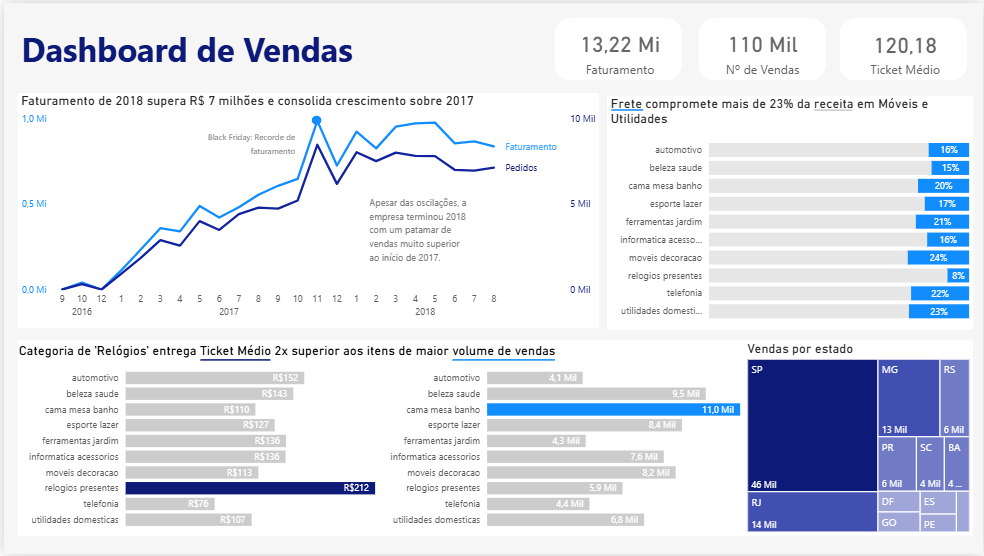

Layout of this report page (visuals, bound fields, positions):
{"tool":"powerbi","page":{"name":"Página 1","canvas":[1280,720],"ordinal":0},"visuals":[{"type":"group","id":"g1","title":"Grupo 1","box":[16.7,118.3,760,308.3],"z":0},{"type":"lineChart","title":"Faturamento de 2018 supera R$ 7 milhões e consolida crescimento sobre 2017","fields":{"Category":["Sazonalidade.ano","Sazonalidade.mês"],"Y":["Sum(Sazonalidade.faturamento)"],"Y2":["Sum(Sazonalidade.qtd_pedidos)"]},"box":[16.7,118.3,760.3,307.6],"z":0,"group":"g1"},{"type":"hundredPercentStackedBarChart","title":"Frete compromete mais de 23% da receita em Móveis e Utilidades","fields":{"Category":["lucratividade.categoria"],"Y":["lucratividade.VendaLiquida","Sum(lucratividade.frete_total)"]},"box":[788.3,121.6,478.3,305],"z":0,"group":"g4"},{"type":"clusteredBarChart","title":"insira aqui o seu texto","fields":{"Category":["categorias.categoria"],"Y":["Sum(categorias.ticket_medio)"]},"box":[16.7,441,516.7,255.6],"z":0,"group":"g2"},{"type":"shape","box":[793.5,103,41.4,75.7],"z":1000,"group":"g4"},{"type":"textbox","box":[231.3,160.1,154.3,48.2],"z":1000,"group":"g1"},{"type":"group","id":"g2","title":"Grupo 2","box":[16.7,320,988.3,376.7],"z":1000},{"type":"clusteredBarChart","fields":{"Category":["categorias.categoria"],"Y":["Sum(categorias.qtd_vendas)"]},"box":[488.9,441,516.7,255.6],"z":1000,"group":"g2"},{"type":"group","id":"g3","title":"Grupo 3","box":[788.3,100.1,478.3,326.5],"z":2000},{"type":"shape","box":[1059.3,100.1,50,80],"z":2000,"group":"g4"},{"type":"textbox","box":[471.5,244.8,143.2,106.4],"z":2000,"group":"g1"},{"type":"shape","box":[16.7,441,988.9,25.6],"z":2000,"group":"g2"},{"type":"shape","box":[401.9,147.7,13.3,12.4],"z":3000,"group":"g1"},{"type":"shape","box":[255.9,320,91.5,293.8],"z":3000,"group":"g2"},{"type":"treemap","title":"Vendas por estado ","fields":{"Group":["compras por estado.customer_state"],"Values":["Sum(compras por estado.Compras_por_Estado)"]},"box":[966.7,441.7,300,255],"z":3000},{"type":"textbox","box":[16.7,25,526.7,73.3],"z":4000},{"type":"shape","box":[585.9,320,133.8,293.8],"z":4000,"group":"g2"},{"type":"shape","box":[719.4,20,166.7,81.7],"z":4500},{"type":"card","fields":{"Values":["Sum(lucratividade.faturamento_total)"]},"box":[738.3,25,131.7,73.3],"z":5000},{"type":"shape","box":[907.2,20,166.7,81.7],"z":5500},{"type":"card","fields":{"Values":["Sum(lucratividade.qtd_vendas)"]},"box":[925,25,131.7,73.3],"z":6000},{"type":"shape","box":[1092.2,20.6,166.7,81.7],"z":7000},{"type":"textbox","box":[1130.8,32.5,97.5,44.2],"z":7001},{"type":"textbox","box":[1126.5,70.6,105.9,32.4],"z":7002},{"type":"group","id":"g4","title":"Grupo 4","box":[788.3,100.1,478.3,326.5],"z":8001,"group":"g3"}]}

Visuals, with their boxes in screenshot pixels (x1, y1, x2, y2), scaled from the page's 1280x720 canvas onto the 984x556 screenshot:
"Grupo 1" group: <box>13,91,597,329</box>
"Faturamento de 2018 supera R$ 7 milhões e consolida crescimento sobre 2017" lineChart: <box>13,91,597,329</box>
"Frete compromete mais de 23% da receita em Móveis e Utilidades" hundredPercentStackedBarChart: <box>606,94,974,329</box>
"insira aqui o seu texto" clusteredBarChart: <box>13,341,410,538</box>
shape: <box>610,80,642,138</box>
textbox: <box>178,124,296,161</box>
"Grupo 2" group: <box>13,247,773,538</box>
clusteredBarChart - categorias.categoria x Sum(categorias.qtd_vendas): <box>376,341,773,538</box>
"Grupo 3" group: <box>606,77,974,329</box>
shape: <box>814,77,853,139</box>
textbox: <box>362,189,473,271</box>
shape: <box>13,341,773,360</box>
shape: <box>309,114,319,124</box>
shape: <box>197,247,267,474</box>
"Vendas por estado " treemap: <box>743,341,974,538</box>
textbox: <box>13,19,418,76</box>
shape: <box>450,247,553,474</box>
shape: <box>553,15,681,79</box>
card - Sum(lucratividade.faturamento_total): <box>568,19,669,76</box>
shape: <box>697,15,826,79</box>
card - Sum(lucratividade.qtd_vendas): <box>711,19,812,76</box>
shape: <box>840,16,968,79</box>
textbox: <box>869,25,944,59</box>
textbox: <box>866,55,947,80</box>
"Grupo 4" group: <box>606,77,974,329</box>
